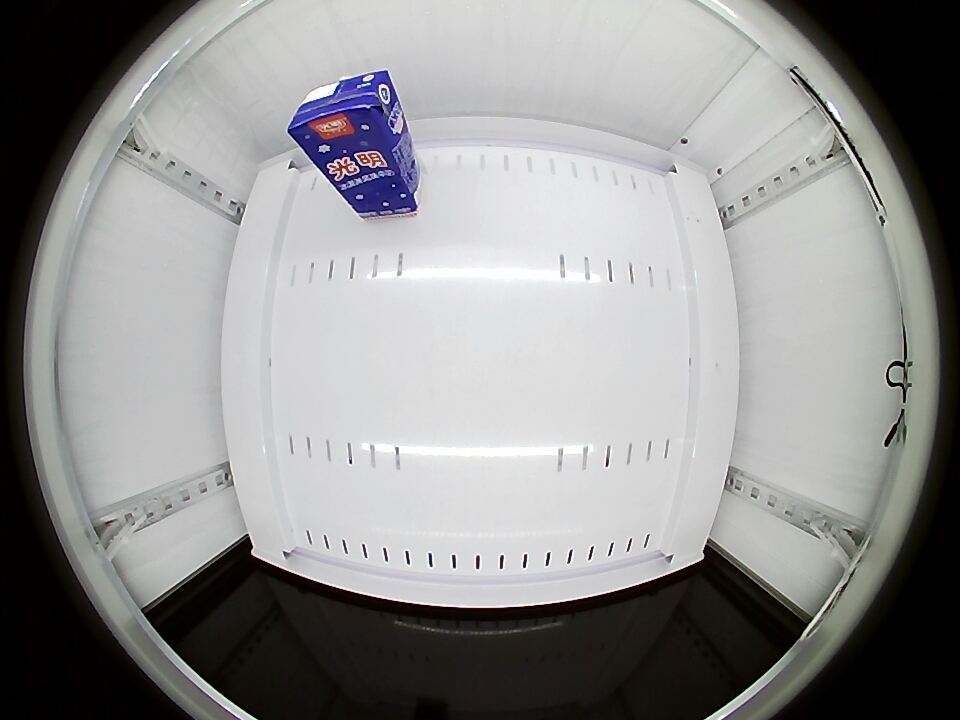bingqilinniunai: (287, 70, 399, 160)
